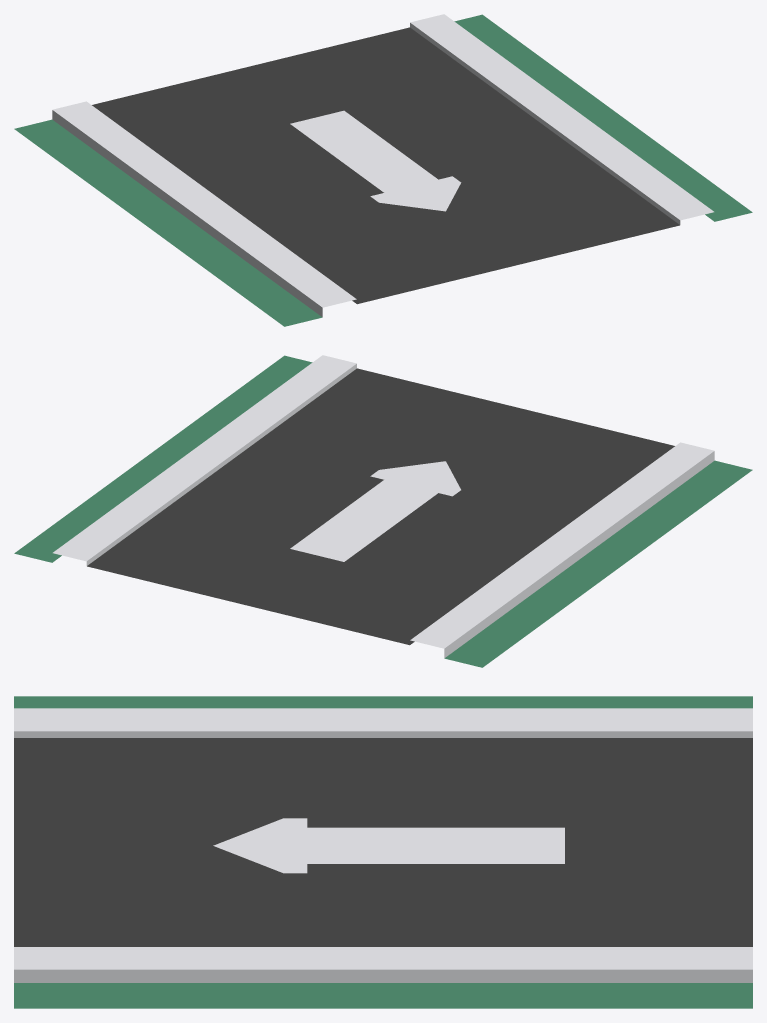
File: road-straight-arrow.glb
The picture shows the model from 3 angles, top to bottom: view 1: azimuth 30°, elevation 25°; view 2: azimuth 150°, elevation 25°; view 3: azimuth 270°, elevation 25°; orthographic projection. The views are drawn at different scales.
Parts seen in each view (by area): view 1: roadStraightArrow; view 2: roadStraightArrow; view 3: roadStraightArrow.
Boxes of the visible parts, x1,y1,x2,y2 form: roadStraightArrow: [14, 14, 752, 326]; roadStraightArrow: [14, 355, 752, 667]; roadStraightArrow: [14, 696, 752, 1008].
Size of the model in its own units: 1 by 0.02 by 1.
